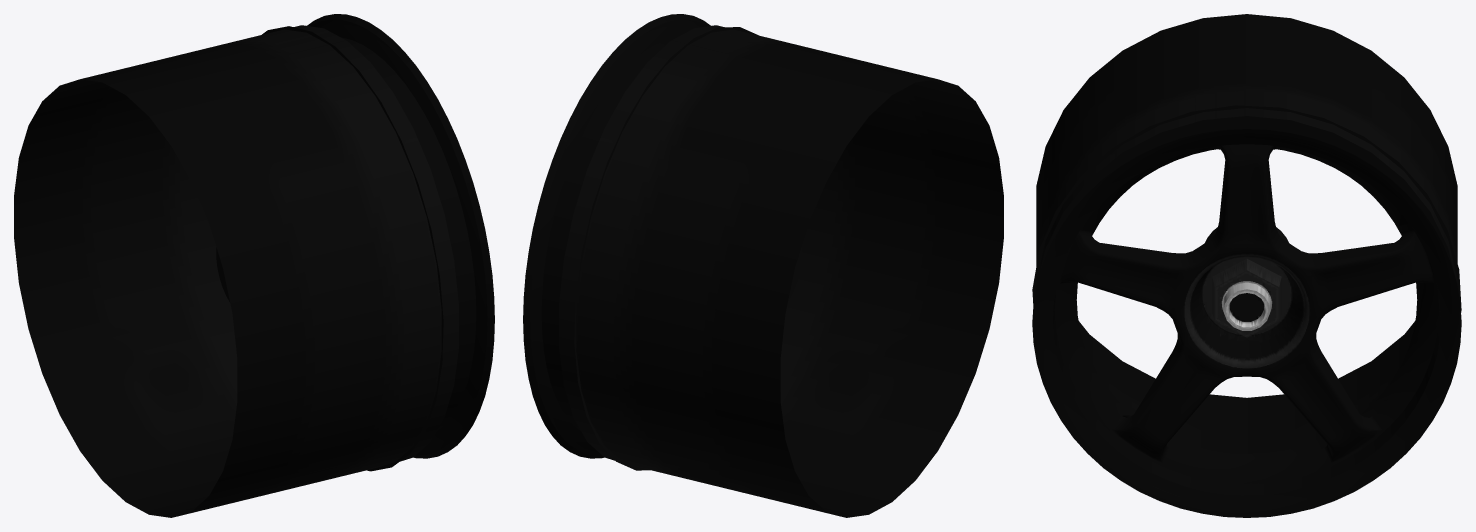
File: wheel13.fbx
3 renders of one model, left to right at view 1: azimuth 30°, elevation 25°; view 2: azimuth 150°, elevation 25°; view 3: azimuth 270°, elevation 25°, orthographic. The views are drawn at different scales.
Visible parts, largest first — view 1: nis_23_gtr_03_wheel_wheel_inner_rim_, wheel_rim, nis_23_gtr_03_wheel_wheel_rim_; view 2: nis_23_gtr_03_wheel_wheel_inner_rim_, wheel_rim, nis_23_gtr_03_wheel_wheel_rim_; view 3: nis_23_gtr_03_wheel_wheel_inner_rim_, nis_23_gtr_03_wheel_wheel_rim_, wheel_rim.
Part boxes in pixels (left/top/right/bottom): nis_23_gtr_03_wheel_wheel_inner_rim_: left=14, top=25, right=458, bottom=517; wheel_rim: left=307, top=14, right=494, bottom=458; nis_23_gtr_03_wheel_wheel_rim_: left=321, top=22, right=487, bottom=454; nis_23_gtr_03_wheel_wheel_inner_rim_: left=559, top=25, right=1003, bottom=517; wheel_rim: left=523, top=14, right=710, bottom=458; nis_23_gtr_03_wheel_wheel_rim_: left=530, top=20, right=702, bottom=453; nis_23_gtr_03_wheel_wheel_inner_rim_: left=1032, top=14, right=1461, bottom=453; nis_23_gtr_03_wheel_wheel_rim_: left=1032, top=129, right=1456, bottom=517; wheel_rim: left=1032, top=129, right=1461, bottom=517.
Size of the model in its own units: 0.3378 by 0.5213 by 0.5215.
Materials: 1 (1 with a texture image).
